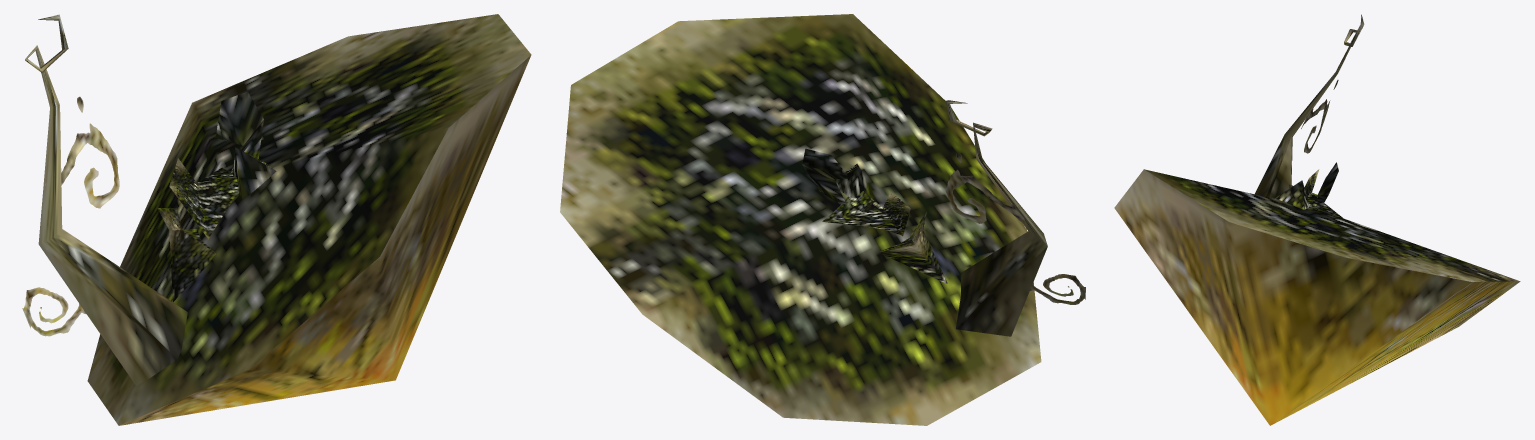
File: edb_food_fruit_s5_l1.fbx
3 views of the same model, side by side, from view 1: azimuth 30°, elevation 25°; view 2: azimuth 150°, elevation 25°; view 3: azimuth 270°, elevation 25° (orthographic). The views are drawn at different scales.
Visible parts, largest first — view 1: mesh_node; view 2: mesh_node; view 3: mesh_node.
Part boxes in pixels (left/top/right/bottom): mesh_node: left=22, top=14, right=531, bottom=425; mesh_node: left=560, top=14, right=1085, bottom=425; mesh_node: left=1114, top=14, right=1520, bottom=425.
Size of the model in its own units: 0.2082 by 0.147 by 0.1806.
Materials: 1 (1 with a texture image).
